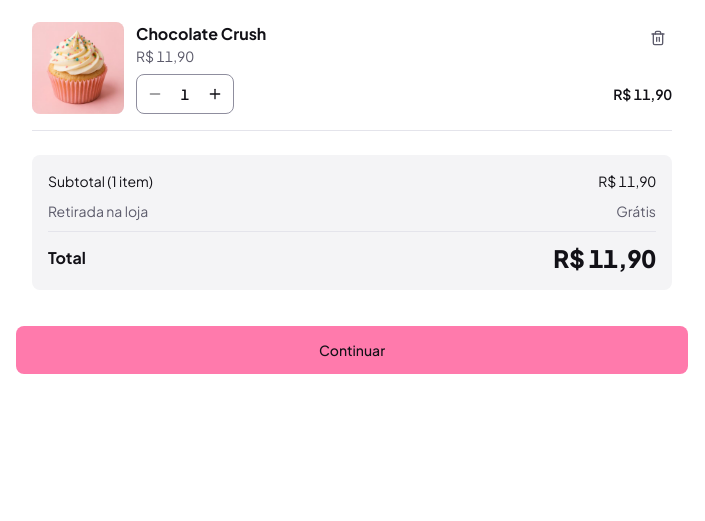
Scenario: US-09 edit cart items › removing the last item shows the empty state
Expected: the heading "Chocolate Crush" is shown, [136,22,266,46]
Click the button named "Remover Chocolate Crush" at (658, 38), box [636,16,680,60]
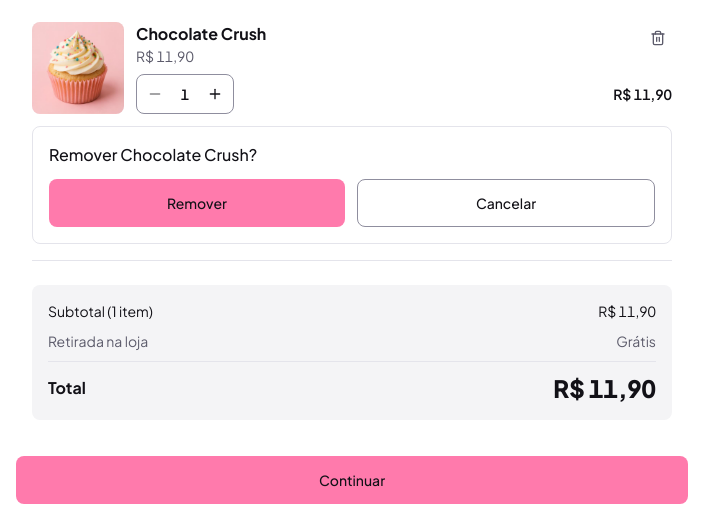
Click the button "Remover" at (197, 203), box [49,179,345,227]
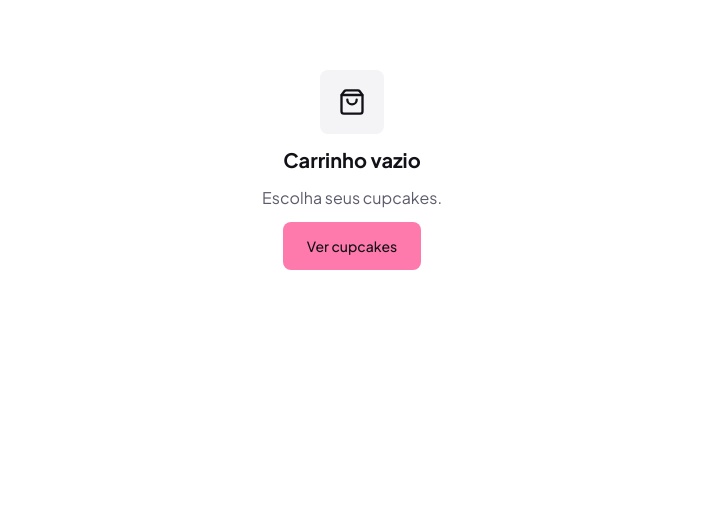
Expected: the heading "Carrinho vazio" is shown, [283,146,421,174]
